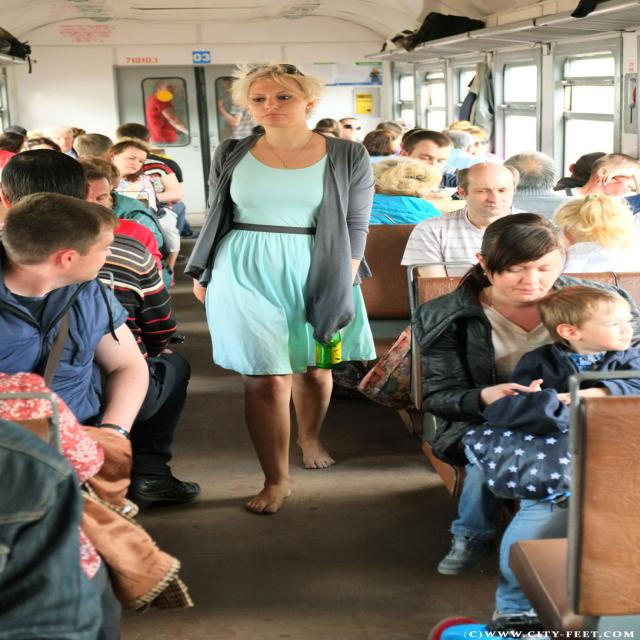Barefoots: (245, 478, 291, 514), (296, 432, 336, 469)
